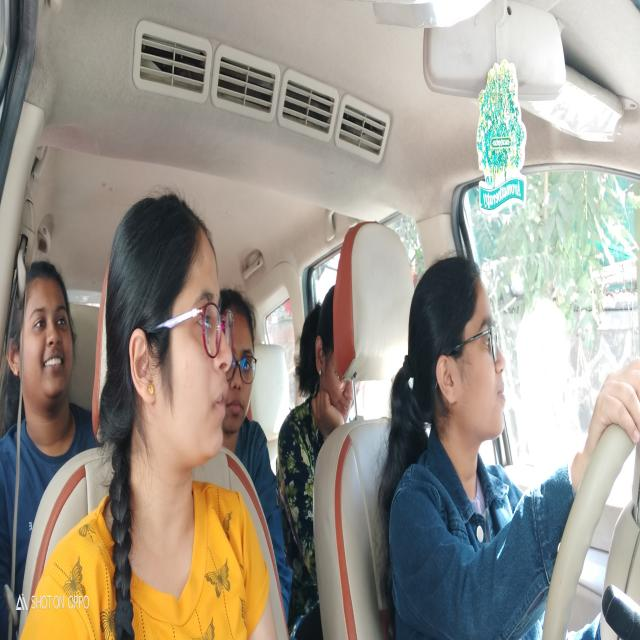LeftRight: (408, 254, 508, 449)
person: (108, 185, 234, 478), (11, 263, 78, 414), (299, 292, 356, 426), (222, 281, 263, 437)
